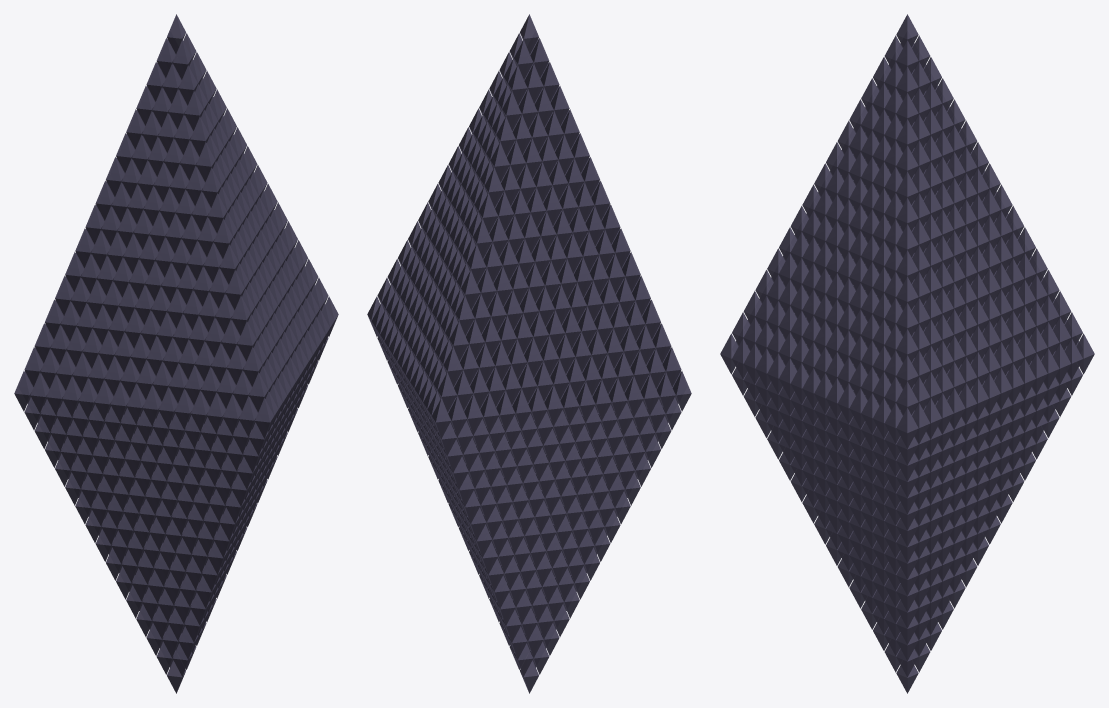
Rendered from prismatrix.glb.
3 views of the same model, side by side, from view 1: azimuth 30°, elevation 25°; view 2: azimuth 150°, elevation 25°; view 3: azimuth 270°, elevation 25° (orthographic).
Visible parts, largest first — view 1: Cone.004_0; view 2: Cone.004_0; view 3: Cone.004_0.
Boxes of the visible parts, x1,y1,x2,y2 form: Cone.004_0: (14,14,338,693); Cone.004_0: (367,14,691,693); Cone.004_0: (720,14,1094,693).
Size of what is drawn, in the model's own units: 31.91 by 63.9 by 31.91.
